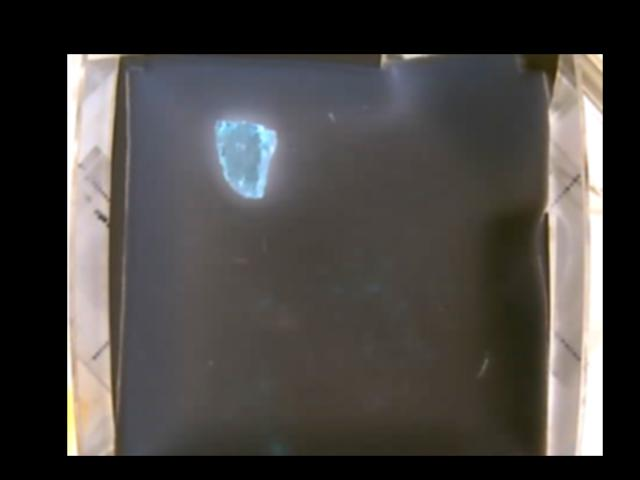Brisk: (214, 116, 278, 198)
